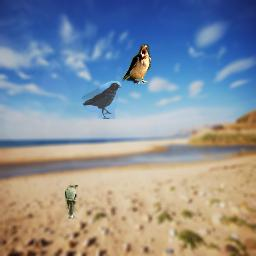Crow: (82, 81, 122, 119)
Cuckoo: (65, 185, 78, 219)
Swallow: (122, 44, 151, 84)
